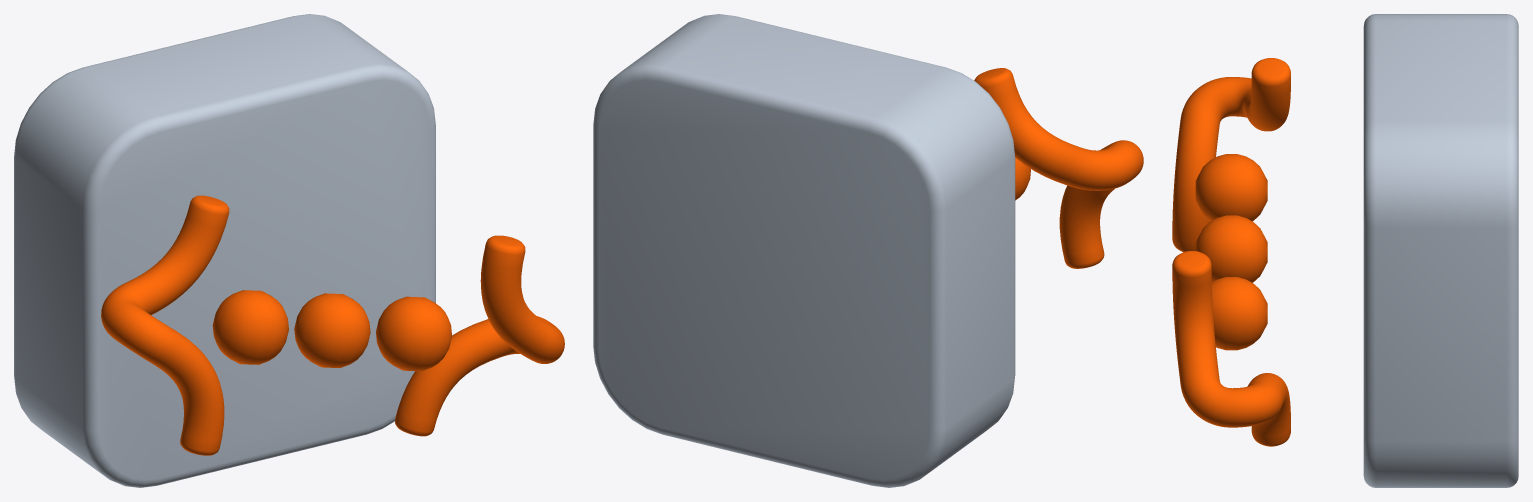
3 views of the same model, side by side, from view 1: azimuth 30°, elevation 25°; view 2: azimuth 150°, elevation 25°; view 3: azimuth 270°, elevation 25° (orthographic). The views are drawn at different scales.
Visible parts, largest first — view 1: beiban, qiu, zuokuohao, youkuohao; view 2: beiban, zuokuohao; view 3: beiban, qiu, youkuohao, zuokuohao.
Boxes of the visible parts, x1=… form: beiban: x1=14, y1=14, x2=435, y2=487; qiu: x1=212, y1=290, x2=451, y2=371; zuokuohao: x1=101, y1=195, x2=229, y2=455; youkuohao: x1=395, y1=235, x2=564, y2=436; beiban: x1=593, y1=14, x2=1015, y2=487; zuokuohao: x1=974, y1=68, x2=1143, y2=268; beiban: x1=1363, y1=14, x2=1518, y2=487; qiu: x1=1195, y1=154, x2=1267, y2=350; youkuohao: x1=1172, y1=251, x2=1290, y2=446; zuokuohao: x1=1172, y1=58, x2=1290, y2=252.
Size of the model in its own units: 0.1612 by 0.1265 by 0.1106.
